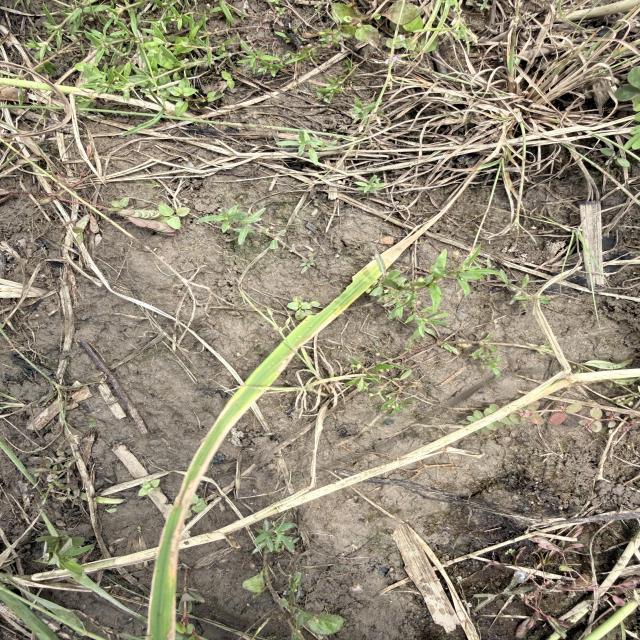Chay bia la: (168, 407, 247, 580), (360, 167, 480, 270), (275, 314, 341, 376), (165, 596, 176, 640)
